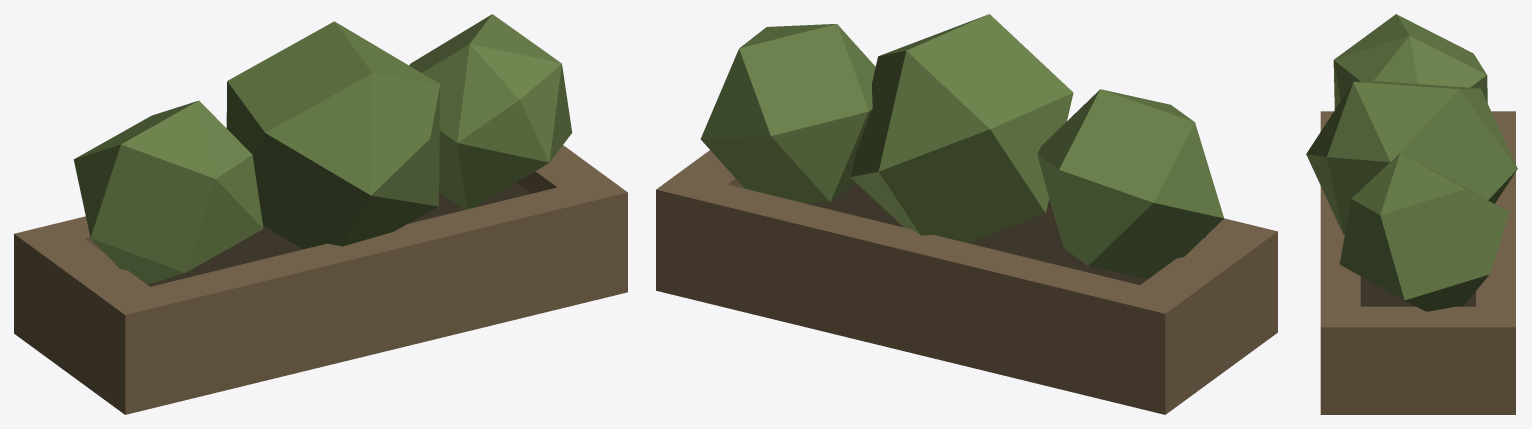
Rendered from SM_Prop_Potplants_01.fbx.
3 views of the same model, side by side, from view 1: azimuth 30°, elevation 25°; view 2: azimuth 150°, elevation 25°; view 3: azimuth 270°, elevation 25° (orthographic). The views are drawn at different scales.
Parts seen in each view (by area): view 1: SM_Prop_Potplants_01; view 2: SM_Prop_Potplants_01; view 3: SM_Prop_Potplants_01.
Boxes of the visible parts, <box> form: SM_Prop_Potplants_01: <box>14,14,627,414</box>; SM_Prop_Potplants_01: <box>656,14,1277,414</box>; SM_Prop_Potplants_01: <box>1306,14,1517,414</box>.
Size of the model in its own units: 36.42 by 18.39 by 15.1.
